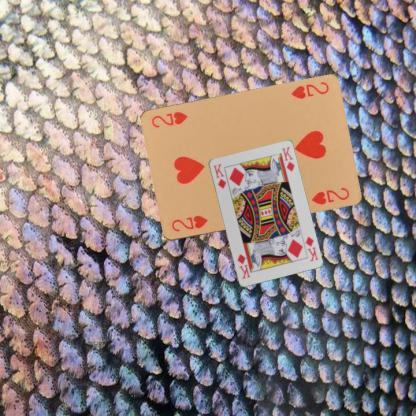2h: (288, 79, 330, 101), (168, 213, 209, 233)
Kd: (302, 234, 320, 262), (210, 161, 227, 190)
